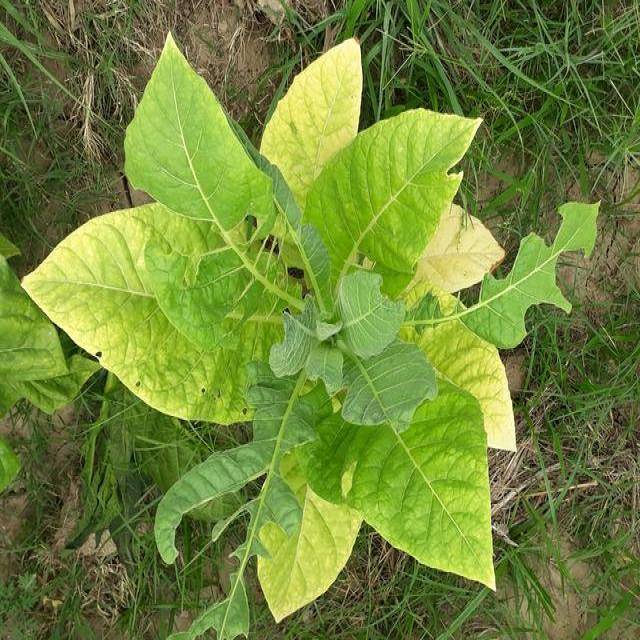crop: (46, 38, 599, 640), (0, 240, 97, 475)
